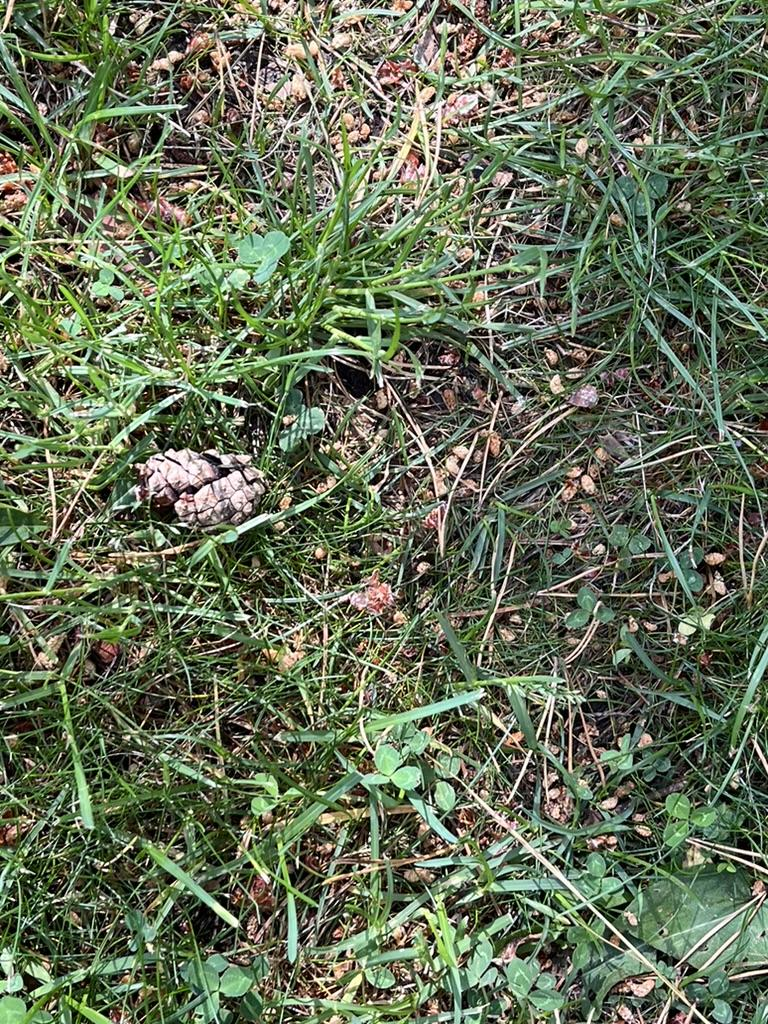pine: (126, 438, 284, 530)
